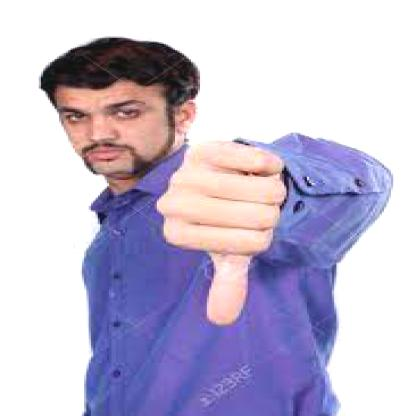Thumbs Down: (170, 138, 276, 320)
